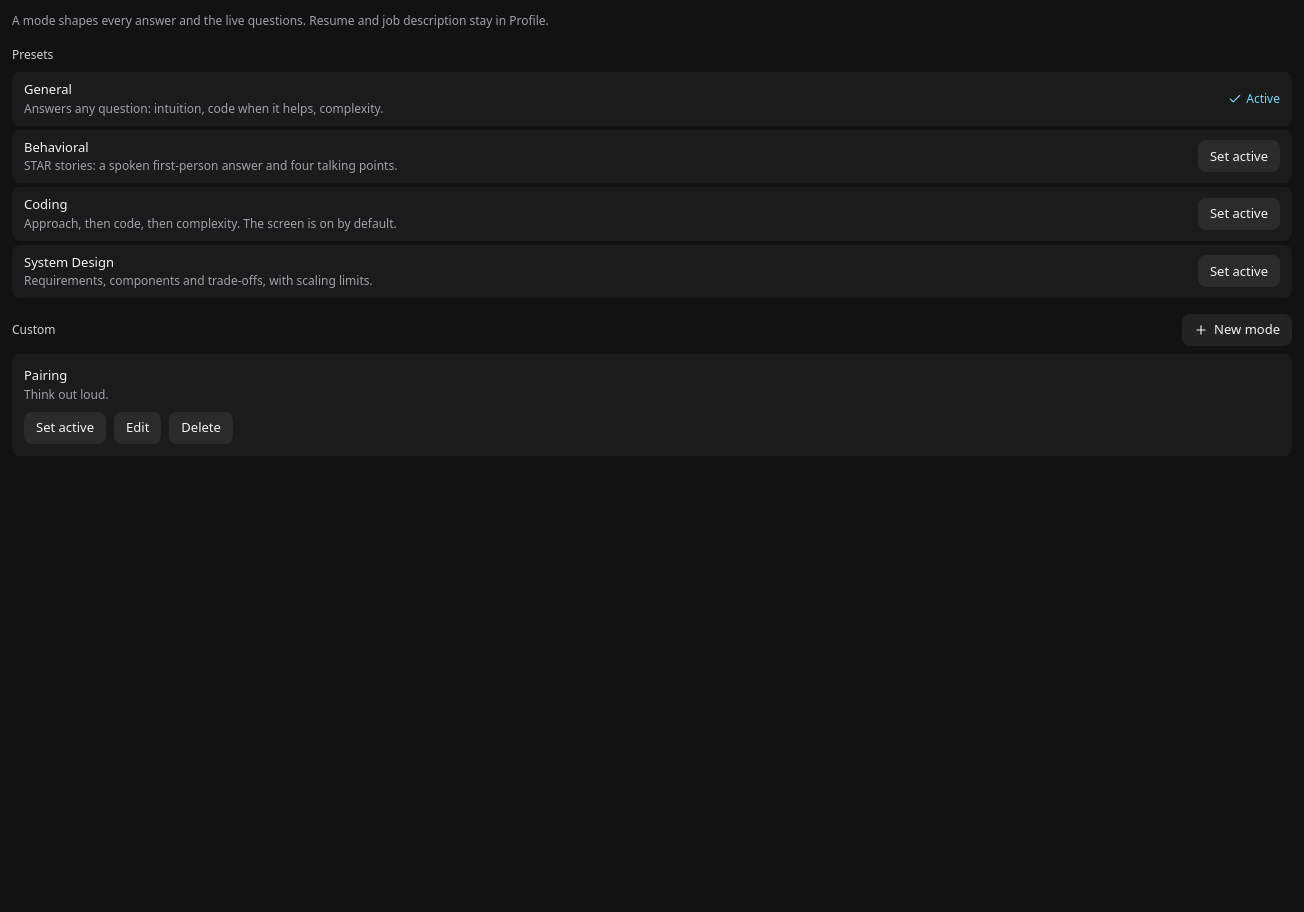
Test: Modes tab › cancelling an edit leaves the mode as it was
Click the button "Edit" at (138,428), box [114, 412, 161, 444]
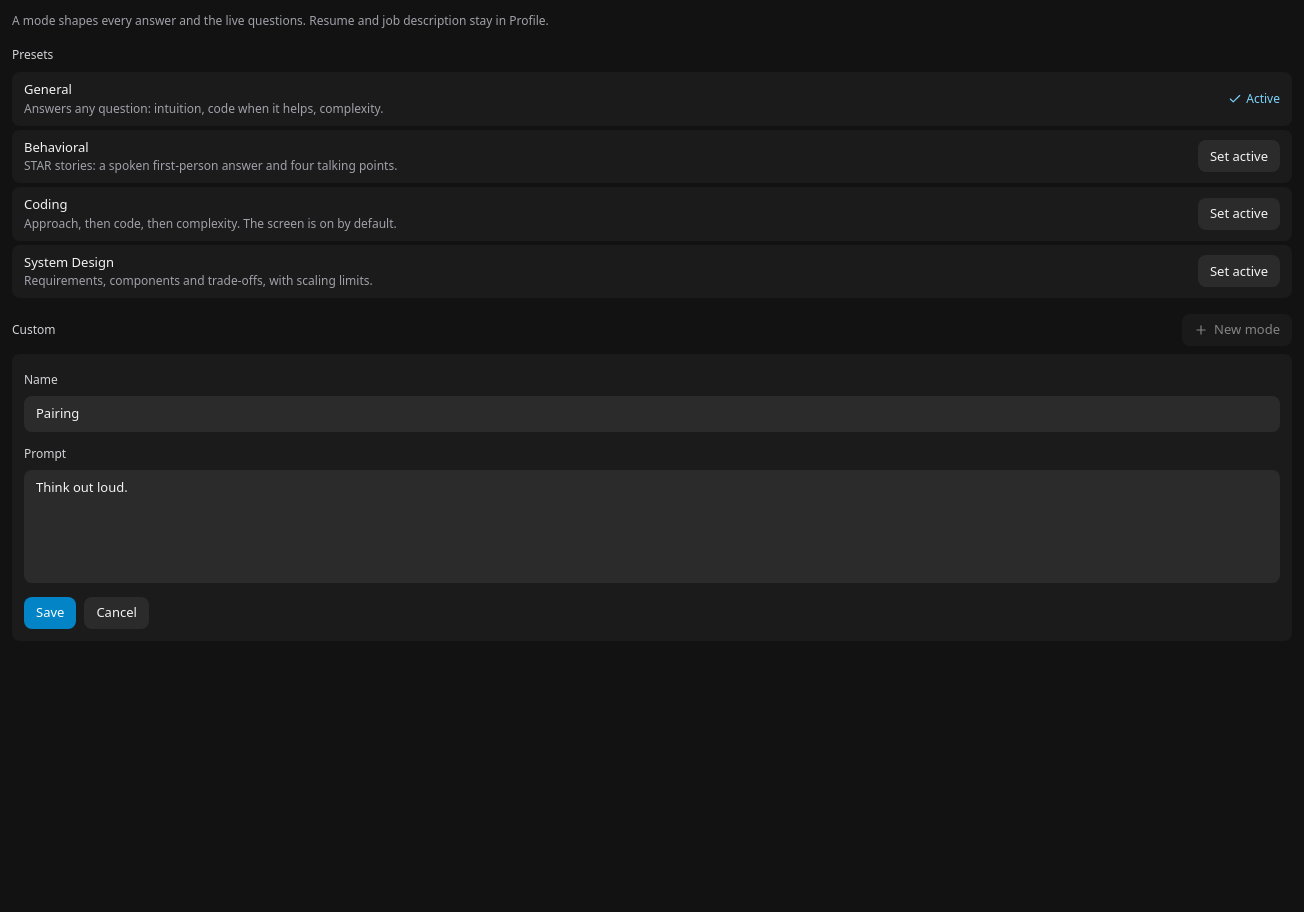
Replace the text in the field labelled "Name" with "Changed" at (652,414), box [24, 396, 1280, 432]
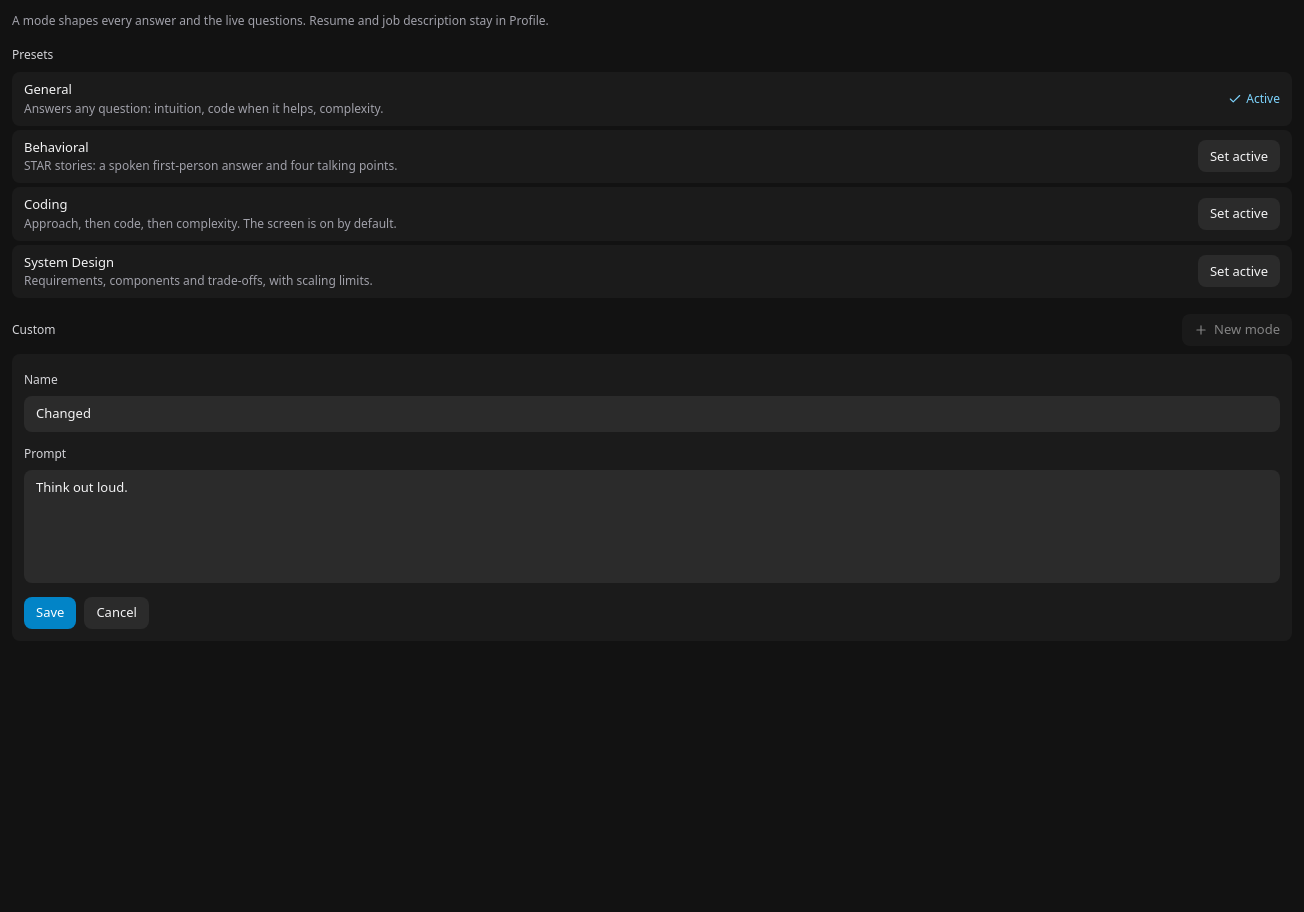
Click the button "Cancel" at (117,613), box [84, 597, 149, 629]
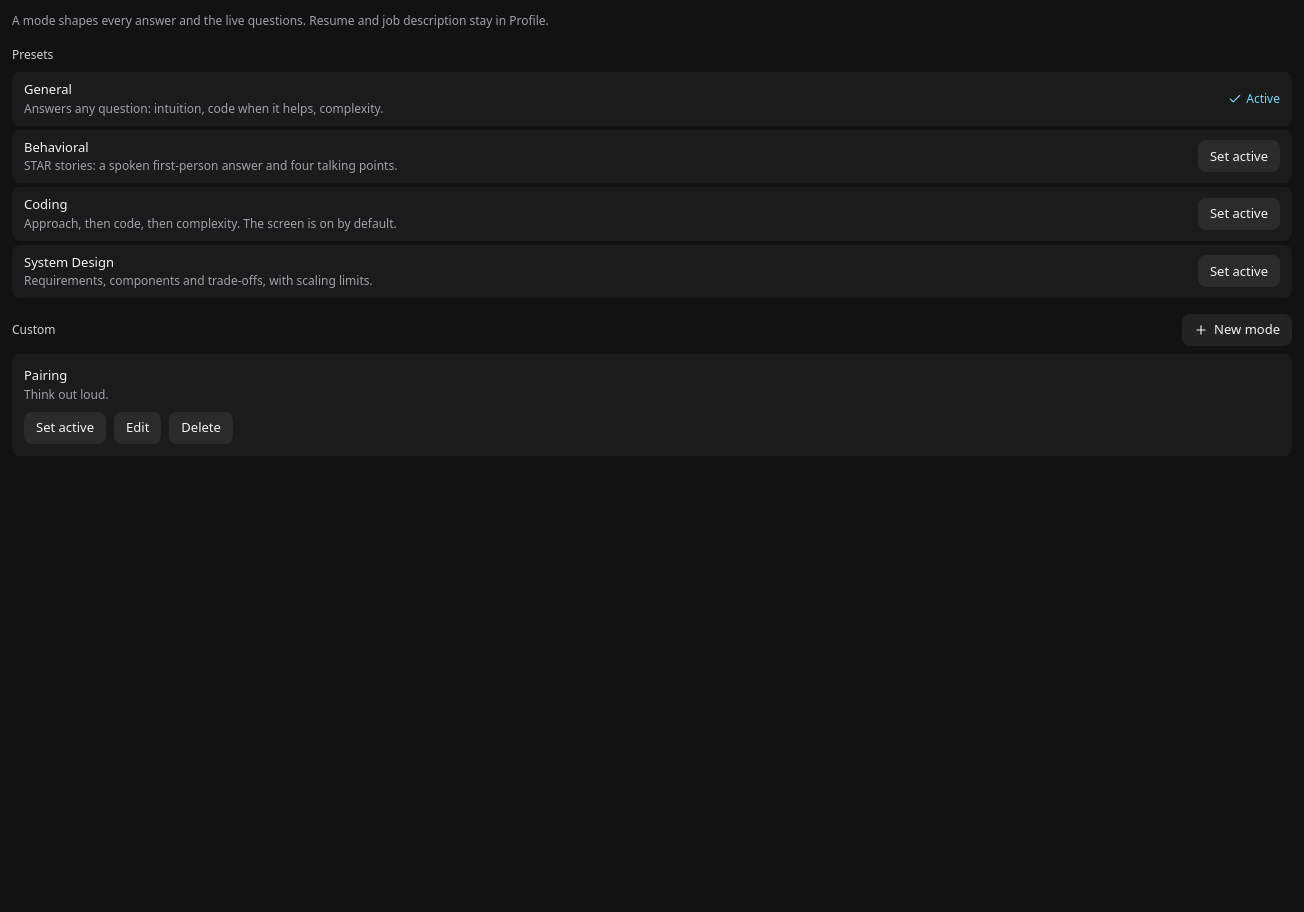
Now the text "Pairing" is shown, box [24, 366, 67, 384]
